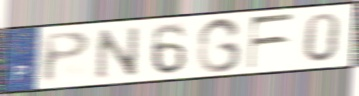0: (301, 11, 343, 63)
6: (149, 21, 189, 77)
F: (246, 11, 297, 71)
G: (194, 15, 244, 74)
N: (95, 24, 142, 82)
P: (41, 29, 94, 85)
